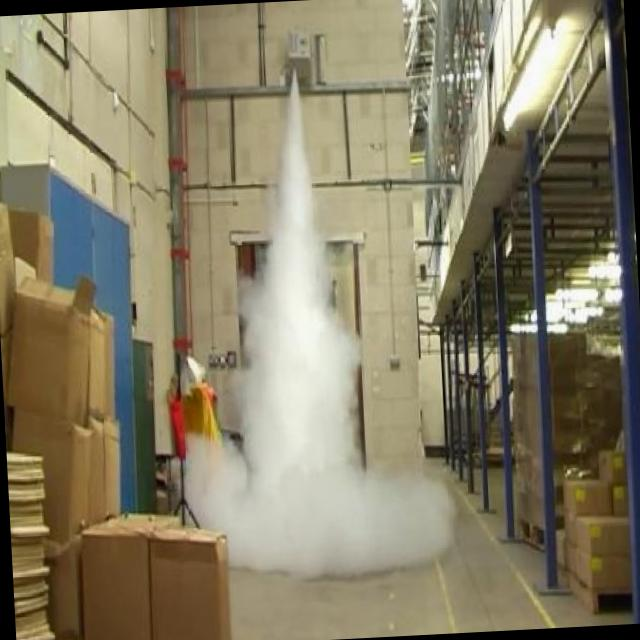smoke: (177, 74, 436, 564)
